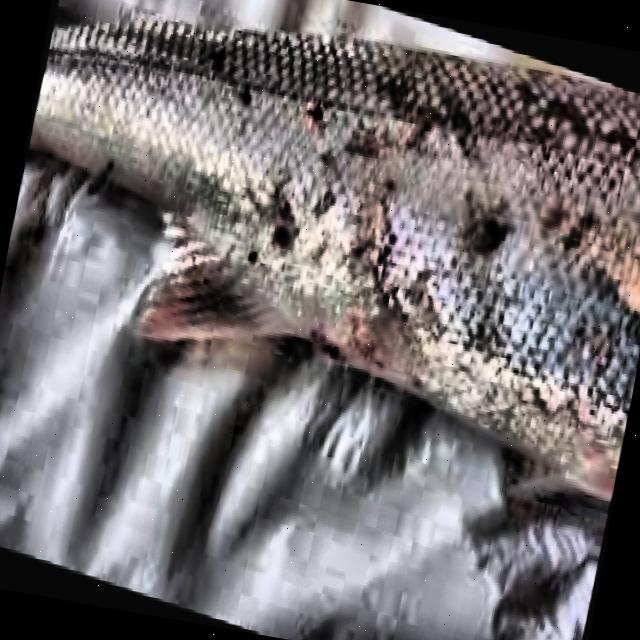mild_red: (31, 6, 640, 493)
